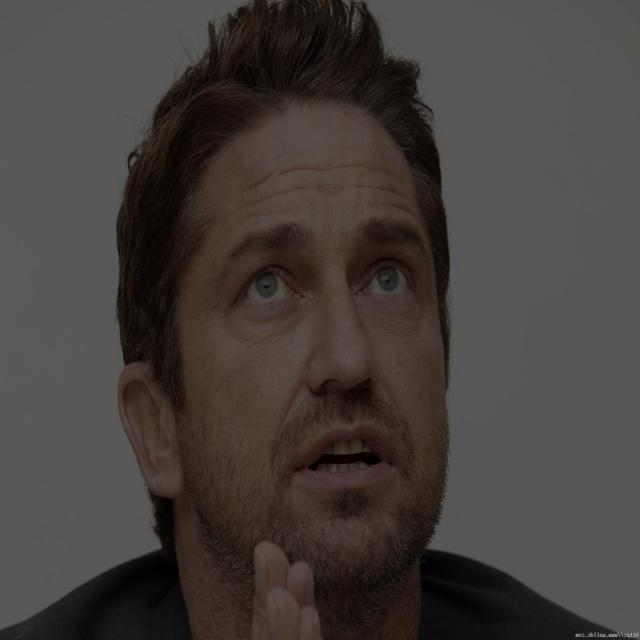no-earmuff: (102, 336, 206, 511)
